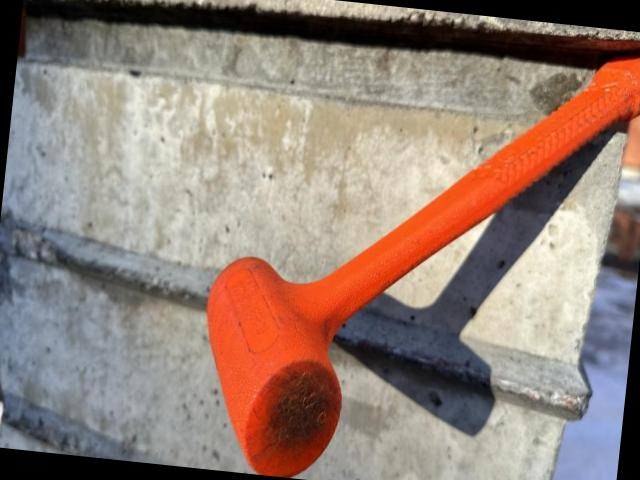hammer: (189, 14, 640, 480)
